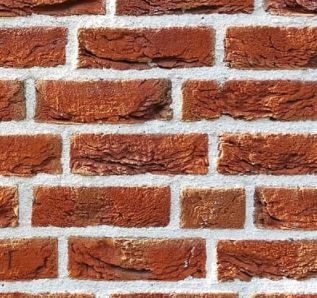brick: (30, 77, 177, 124), (77, 23, 218, 70), (67, 236, 208, 281), (182, 78, 317, 124), (69, 133, 210, 175), (30, 186, 171, 228), (225, 23, 317, 73), (215, 238, 317, 282), (217, 133, 317, 177), (1, 24, 74, 68), (180, 184, 246, 229), (253, 185, 317, 228), (1, 236, 58, 284), (1, 133, 62, 175), (113, 1, 256, 17), (2, 1, 107, 16), (1, 76, 27, 123), (1, 185, 19, 228), (266, 1, 316, 13)
